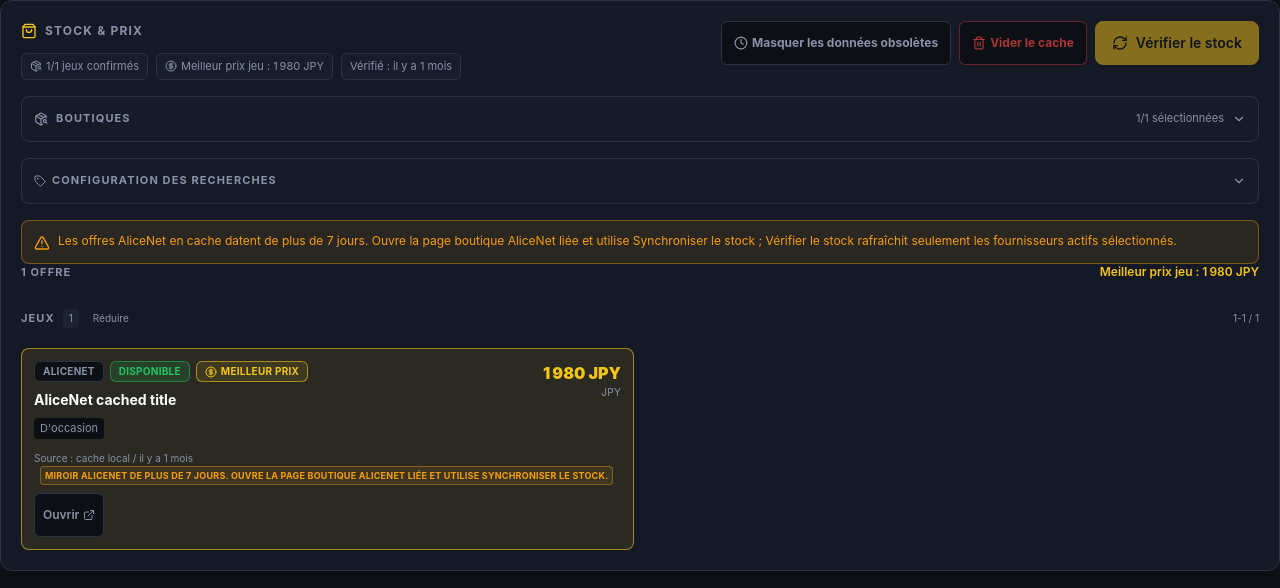
Test: StockPanel › separates stale AliceNet cache messaging from live provider refresh messaging
The image size is (1280, 588).
Expected: the heading "AliceNet cached title" is shown, [34,391,176,408]
Expected: the text "Les offres AliceNet en cache datent de plus de 7 jours. Ouvre la page boutique AliceNet liée et utilise Synchroniser le " is shown, [58,232,1177,248]
Click the button "Masquer les données obsolètes" at [836, 43], box [721,21,951,65]
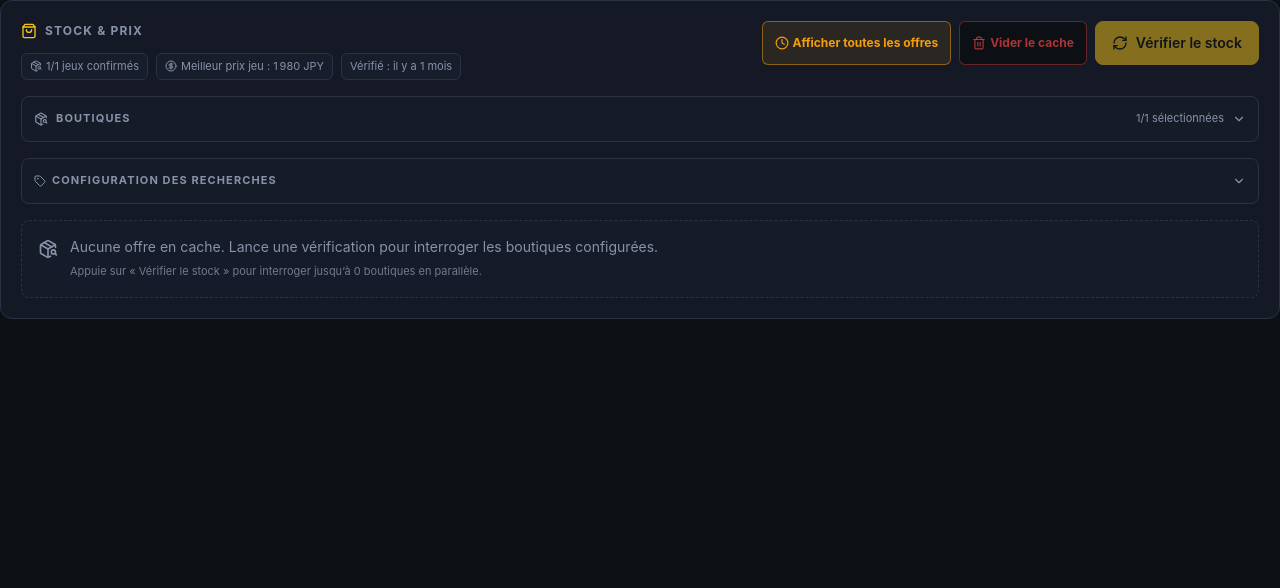
Now the text "Aucune offre en cache. Lance une vérification pour interroger les boutiques configurées." is shown, box [70,238,658,254]
